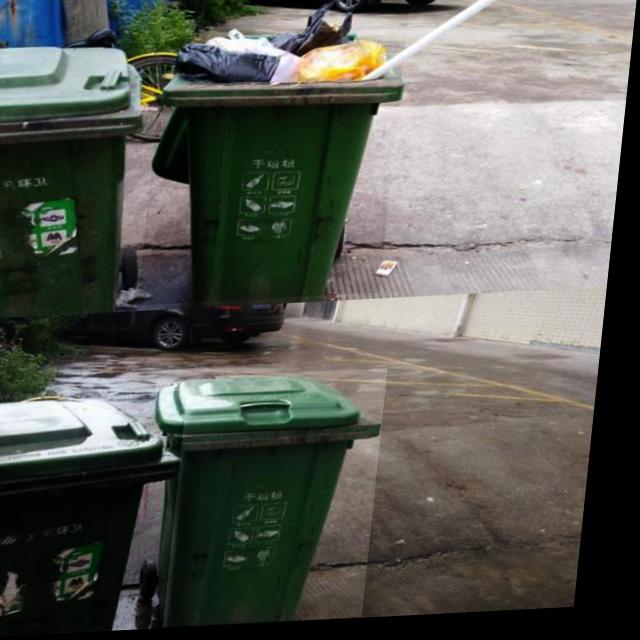garbage_bin: (145, 373, 396, 631), (0, 393, 196, 639), (0, 41, 150, 318)
overflow: (144, 0, 411, 307)
